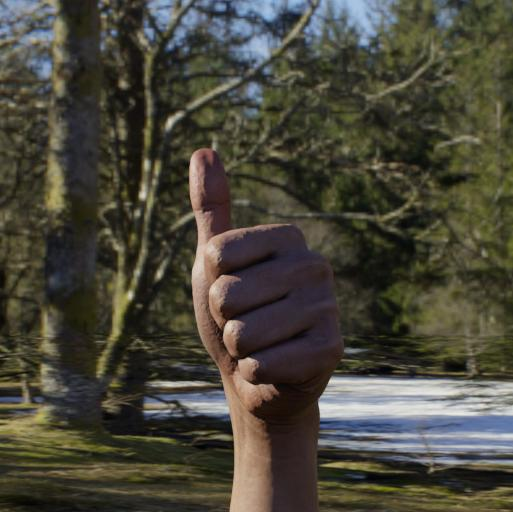thumbs-up: (188, 132, 346, 420)
